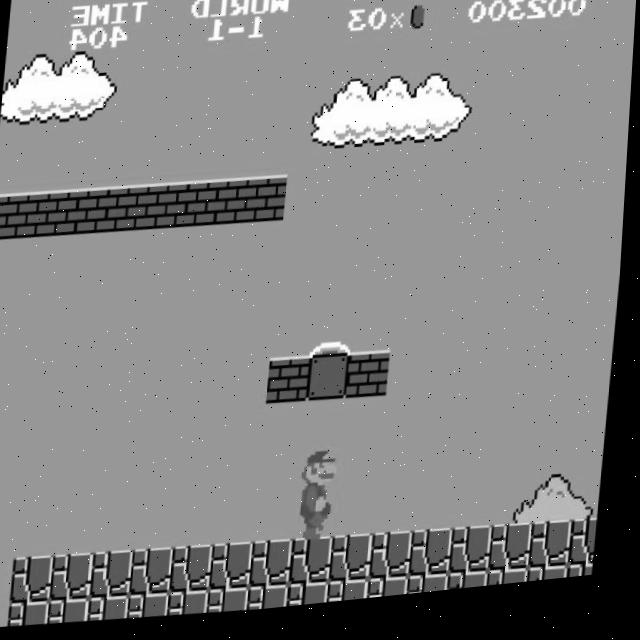0- big_mario: (299, 451, 350, 549)
1- brick_block: (165, 183, 211, 233), (350, 357, 395, 407), (270, 361, 315, 411), (205, 181, 250, 231), (126, 185, 171, 235), (86, 187, 131, 237), (245, 180, 290, 229), (46, 189, 91, 238), (6, 191, 51, 240), (0, 193, 10, 240)
17- undestructible_block: (95, 551, 141, 602), (175, 548, 221, 598), (135, 550, 181, 600), (455, 534, 500, 585), (415, 536, 460, 587), (335, 540, 380, 591), (295, 542, 340, 593), (215, 546, 260, 597), (56, 553, 101, 604), (16, 555, 61, 606), (535, 531, 580, 581), (495, 533, 540, 583), (375, 539, 420, 589), (255, 544, 300, 594), (575, 529, 604, 579), (253, 589, 296, 617), (214, 591, 257, 619), (174, 593, 217, 621), (134, 595, 177, 623), (293, 587, 336, 614), (94, 597, 137, 624), (54, 599, 97, 626), (14, 601, 57, 628), (333, 586, 376, 610), (413, 581, 456, 604), (373, 584, 416, 607), (453, 580, 496, 601), (493, 578, 536, 597), (533, 577, 576, 594), (573, 576, 600, 591)
3- empty_block: (310, 359, 355, 409)
6- flower: (314, 344, 359, 366)
